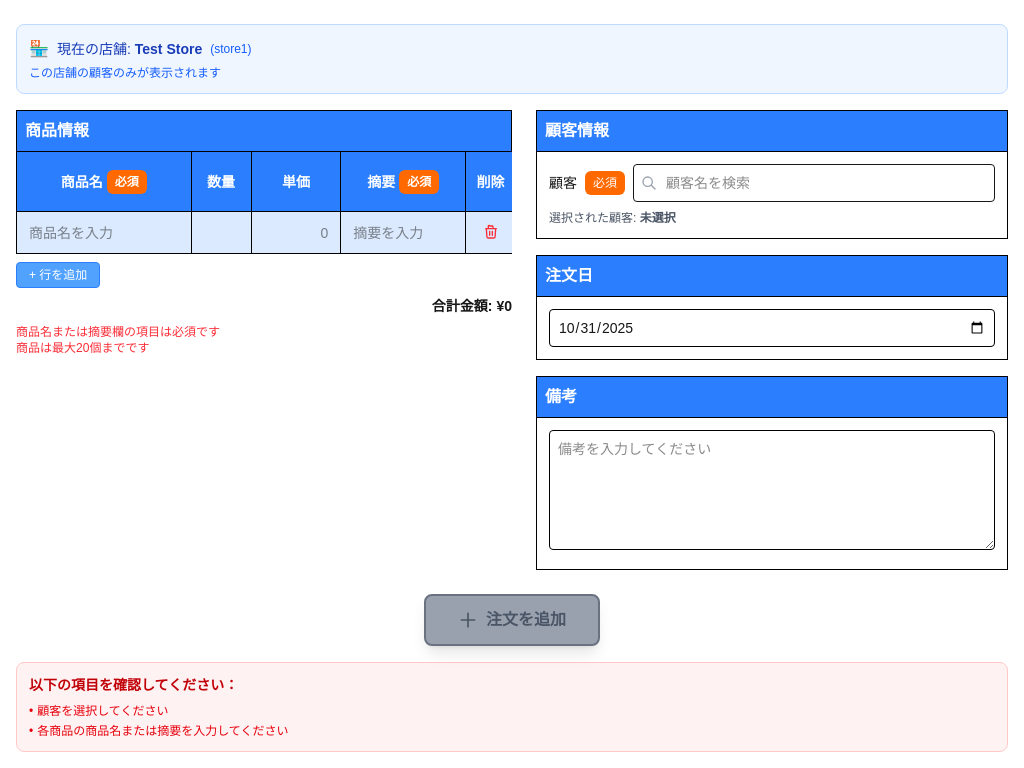
Test: OrderAddPage › confirms product deletion
Note: Add second product first
Click the button "+ 行を追加" at (58, 275), box [16,262,100,288]
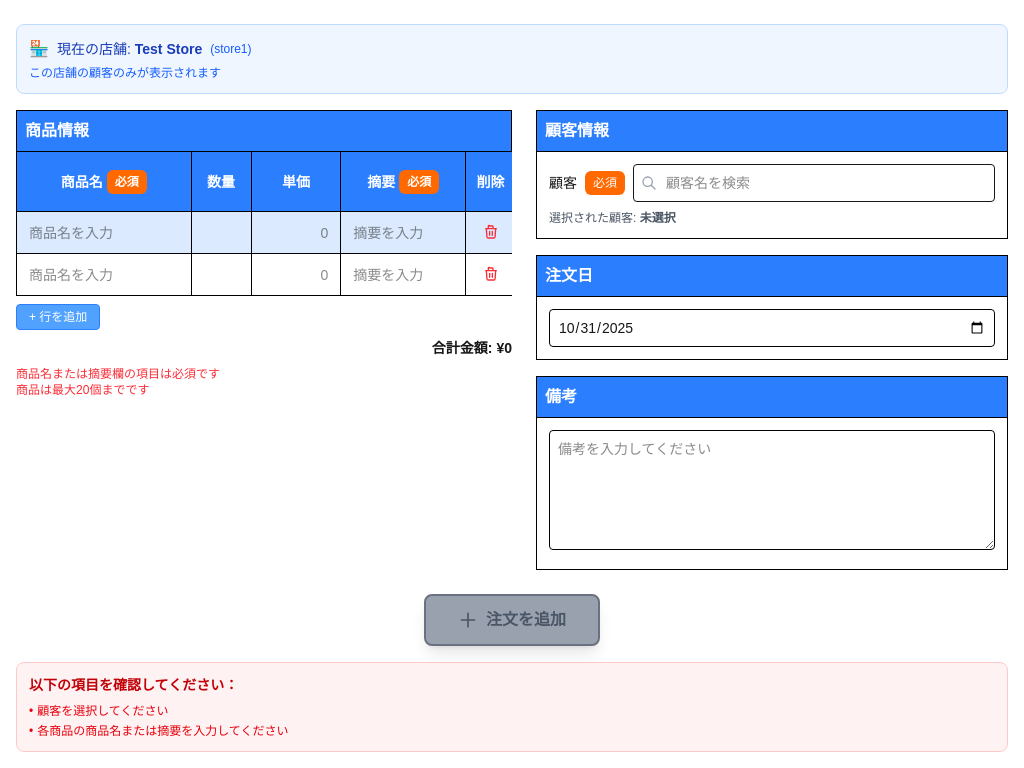
expect the number of buttons titled "この行を削除" is 2: met
Note: Click delete button
Click the 1st button titled "この行を削除" at (490, 232), box [478,220,502,244]
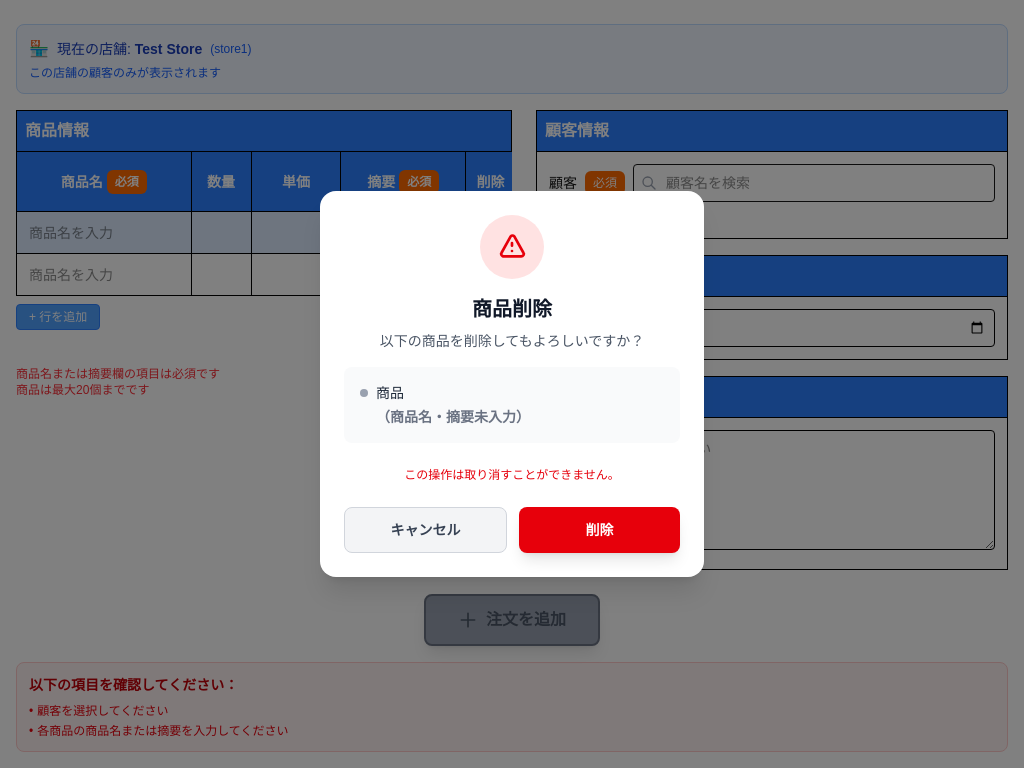
expect the heading "商品削除" is shown: met, box [472,298,552,320]
Note: Confirm deletion
Click the button "削除" at (600, 530), box [519,507,680,553]
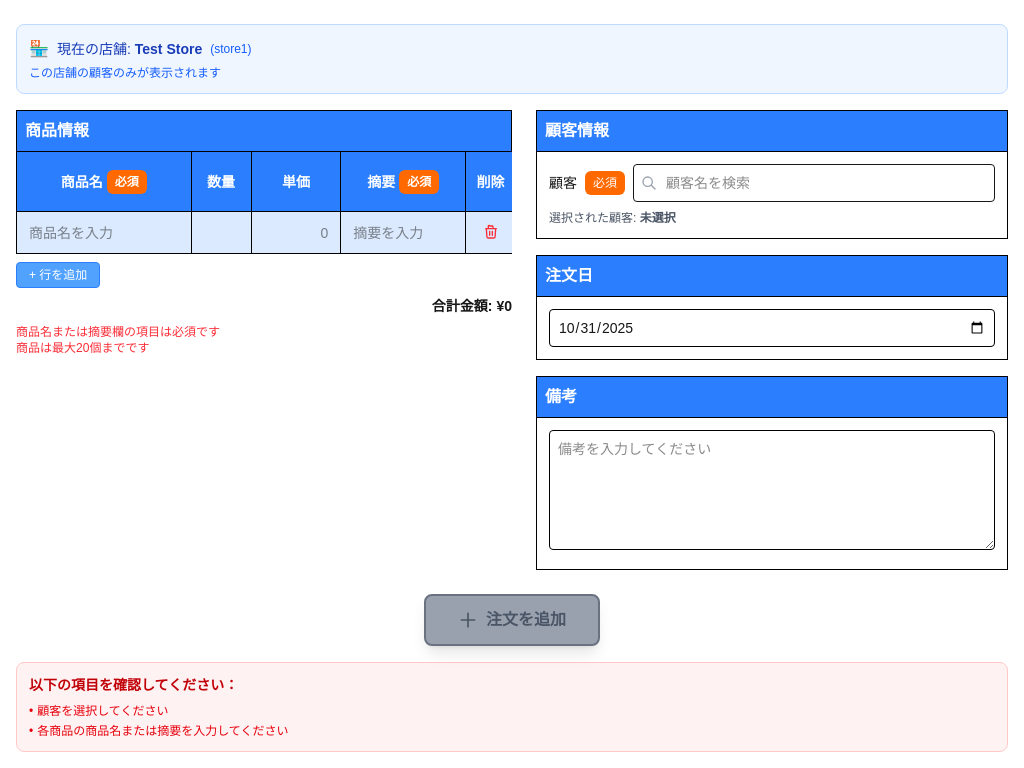
expect the number of fields with placeholder "商品名を入力" is 1: met, box [25,218,183,246]
